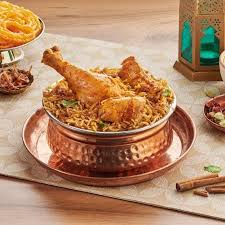briyani: (38, 43, 178, 133)
